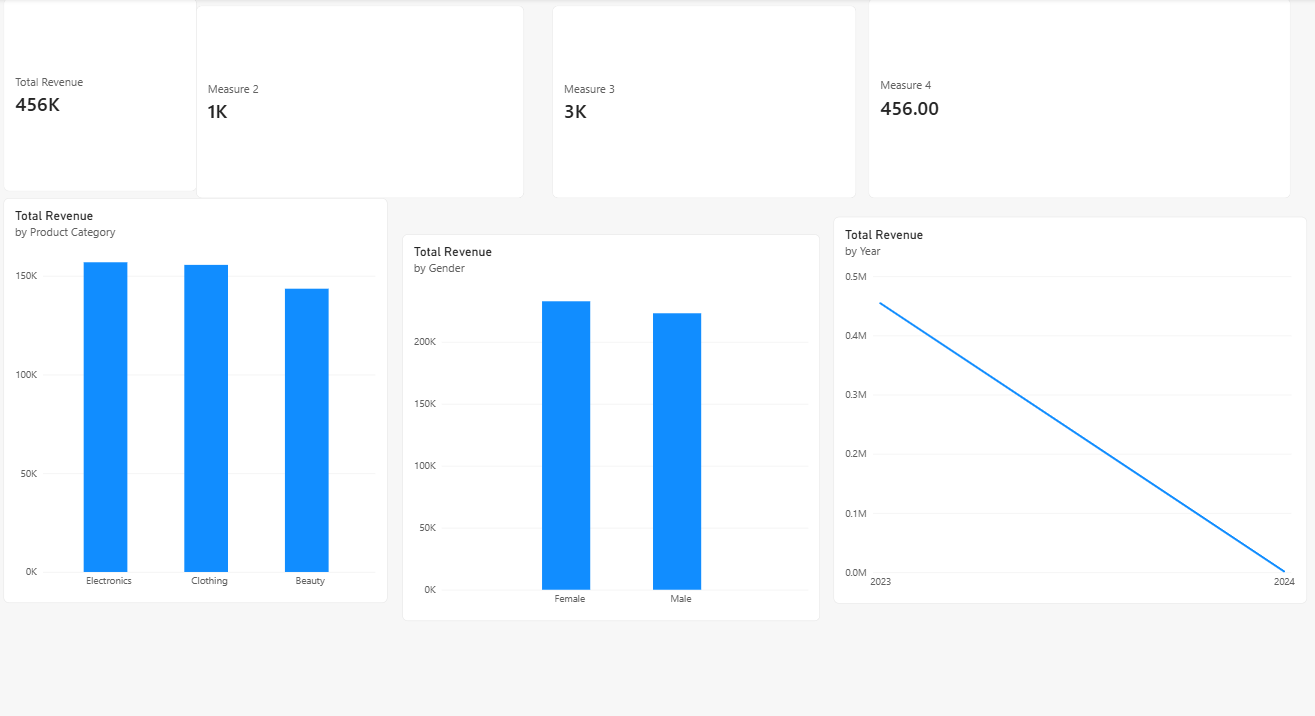

This screenshot's page, from the dashboard's own definition file:
{"tool":"powerbi","page":{"name":"Page 1","canvas":[1920,1080],"ordinal":0},"visuals":[{"type":"cardVisual","fields":{"Data":["projectBI.Total Revenue"]},"box":[10,0,280,280],"z":0},{"type":"cardVisual","fields":{"Data":["projectBI.Measure 2"]},"box":[290.2,10.3,475.5,279.9],"z":1000},{"type":"cardVisual","fields":{"Data":["projectBI.Measure 3"]},"box":[804.8,10.3,440.5,279.9],"z":2000},{"type":"cardVisual","fields":{"Data":["projectBI.Measure 4"]},"box":[1263.8,0,611.3,290.2],"z":3000},{"type":"clusteredColumnChart","fields":{"Category":["projectBI.Product Category"],"Y":["projectBI.Total Revenue"]},"box":[10.3,290.2,555.7,586.6],"z":4000},{"type":"clusteredColumnChart","fields":{"Category":["projectBI.Gender"],"Y":["projectBI.Total Revenue"]},"box":[588.7,341.7,605.1,559.9],"z":5000},{"type":"lineChart","fields":{"Category":["projectBI.Date.Variation.Date Hierarchy.Year","projectBI.Date.Variation.Date Hierarchy.Quarter","projectBI.Date.Variation.Date Hierarchy.Month","projectBI.Date.Variation.Date Hierarchy.Day"],"Y":["projectBI.Total Revenue"]},"box":[1212.4,317,685.4,559.9],"z":6000}]}

Visuals, with their boxes on the page's 1920x1080 design canvas (x1, y1, x2, y2). These are canvas units, not pixel positions in the 1315x716 screenshot, which may show the page scaled, cropped or inside an application window:
cardVisual - projectBI.Total Revenue: region(10, 0, 290, 280)
cardVisual - projectBI.Measure 2: region(290, 10, 766, 290)
cardVisual - projectBI.Measure 3: region(805, 10, 1245, 290)
cardVisual - projectBI.Measure 4: region(1264, 0, 1875, 290)
clusteredColumnChart - projectBI.Product Category x projectBI.Total Revenue: region(10, 290, 566, 877)
clusteredColumnChart - projectBI.Gender x projectBI.Total Revenue: region(589, 342, 1194, 902)
lineChart - projectBI.Date.Variation.Date Hierarchy.Year x projectBI.Date.Variation.Date Hierarchy.Quarter: region(1212, 317, 1898, 877)
